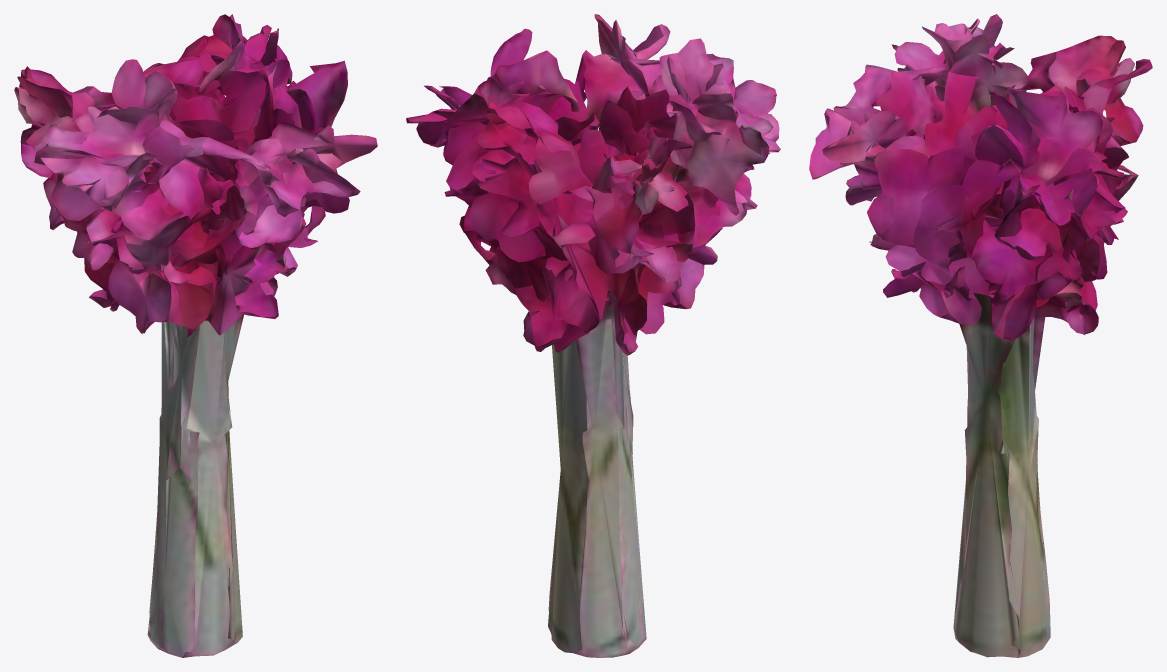
3 renders of one model, left to right at view 1: azimuth 30°, elevation 25°; view 2: azimuth 150°, elevation 25°; view 3: azimuth 270°, elevation 25°, orthographic.
Visible parts, largest first — view 1: world; view 2: world; view 3: world.
Boxes of the visible parts, box(x1,y1,x2,y2) form: world: box(14, 14, 377, 657); world: box(406, 14, 780, 657); world: box(809, 14, 1152, 657).
Bounding box in the file's own units: 0.5545 × 0.978 × 0.5079.
Materials: 1 (1 with a texture image).
